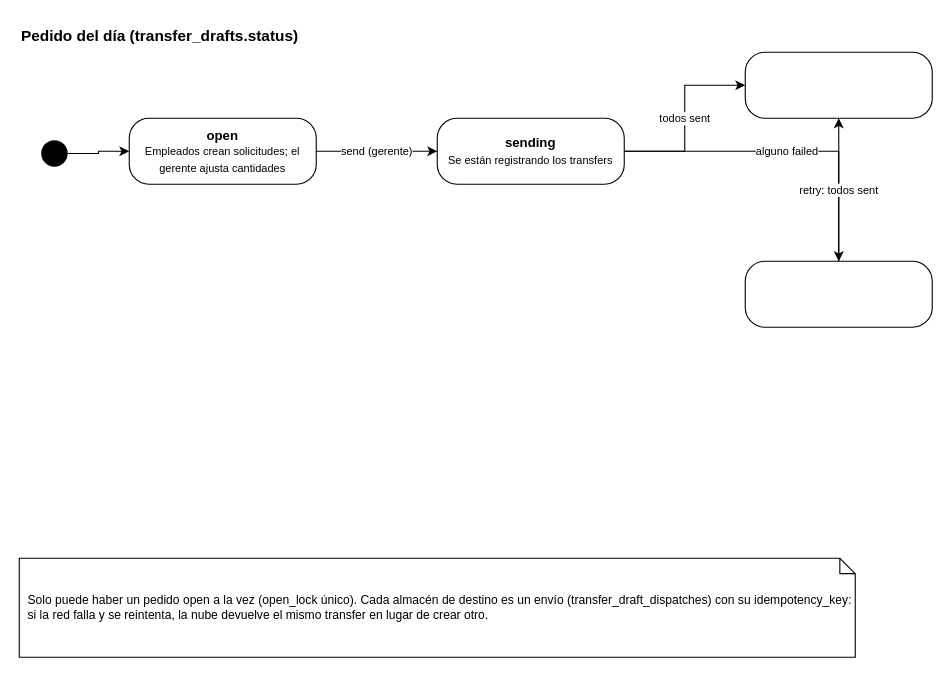
Image size: 952x677. Some labels were removed from this diagram. Here are the shapes that lost their labels. From the top down, the centre of each, then its label:
the point at 838,84: sent Todos los envíos llegaron a la nube
the point at 838,293: partially_sent Algún envío falló
